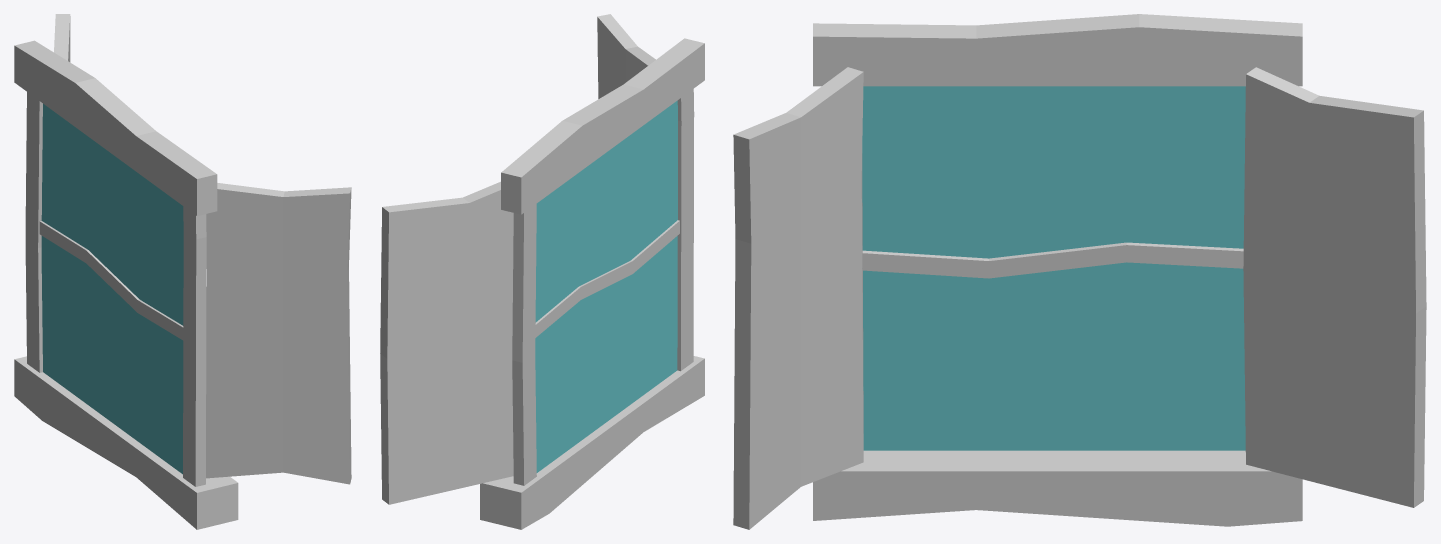
The model's file is Stilt_Window_Open.fbx.
The picture shows the model from 3 angles, left to right: view 1: azimuth 30°, elevation 25°; view 2: azimuth 150°, elevation 25°; view 3: azimuth 270°, elevation 25°; orthographic projection. The views are drawn at different scales.
Visible parts, largest first — view 1: Window_1; view 2: Window_1; view 3: Window_1.
Boxes of the visible parts, bbox=[...] form: Window_1: bbox=[14, 14, 351, 529]; Window_1: bbox=[380, 14, 704, 529]; Window_1: bbox=[733, 14, 1426, 529].
Size of the model in its own units: 28.09 by 74.3 by 96.1.
